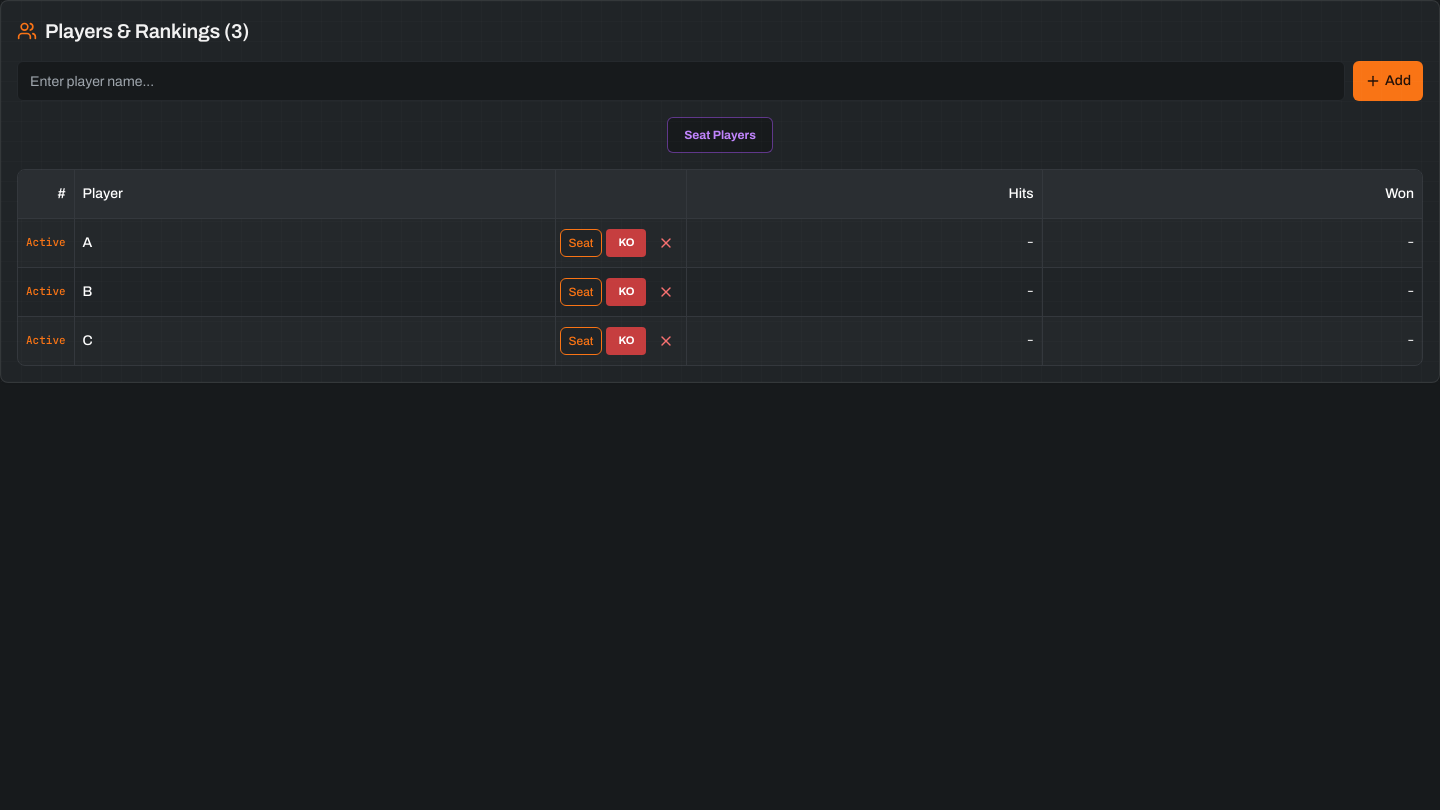
Test: PlayerSection › asks rather than seating more players than there are chairs
Click the button "Seat Players" at (720, 135), box 667,117 -> 773,153
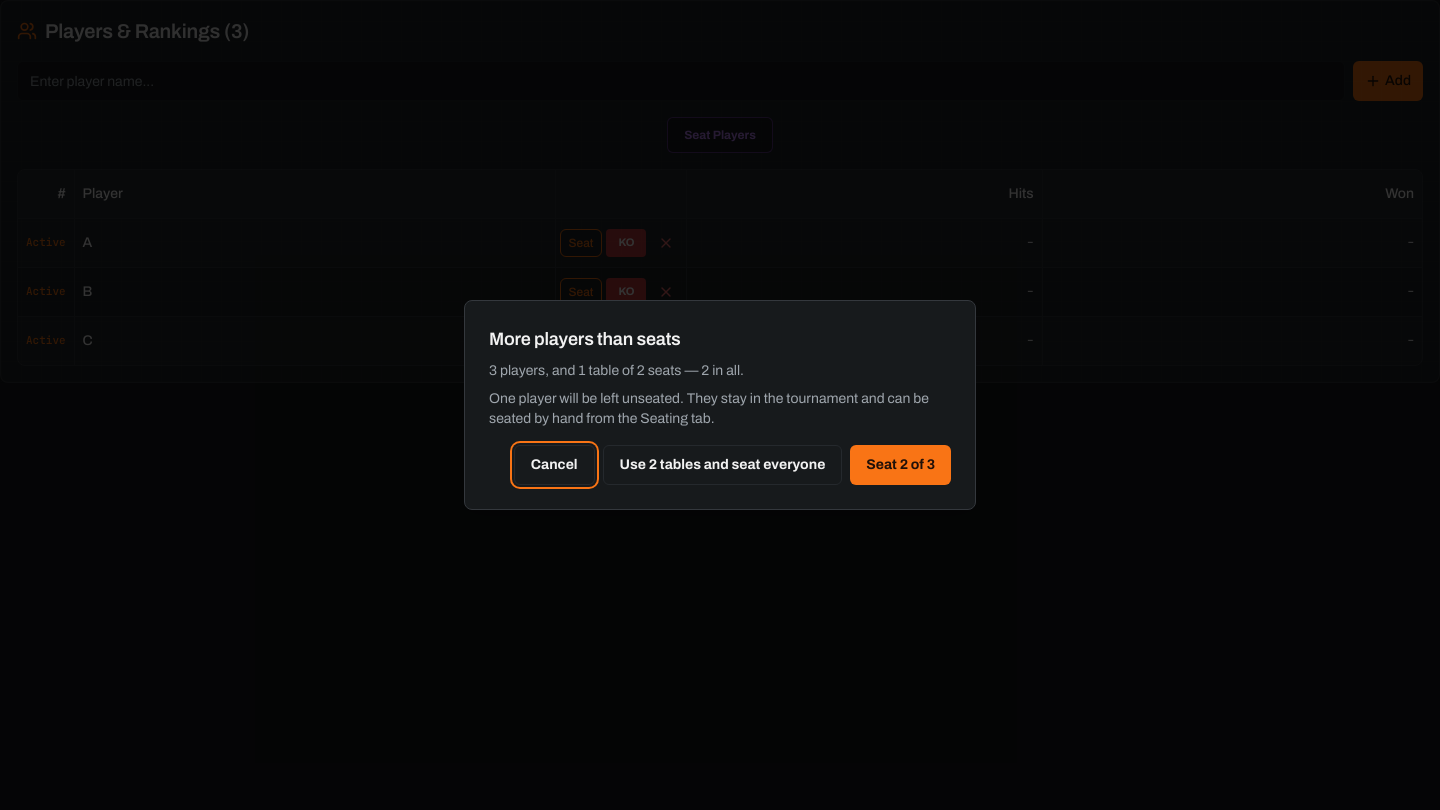
Check: the heading "More players than seats" is shown, box 489,329 -> 681,349
